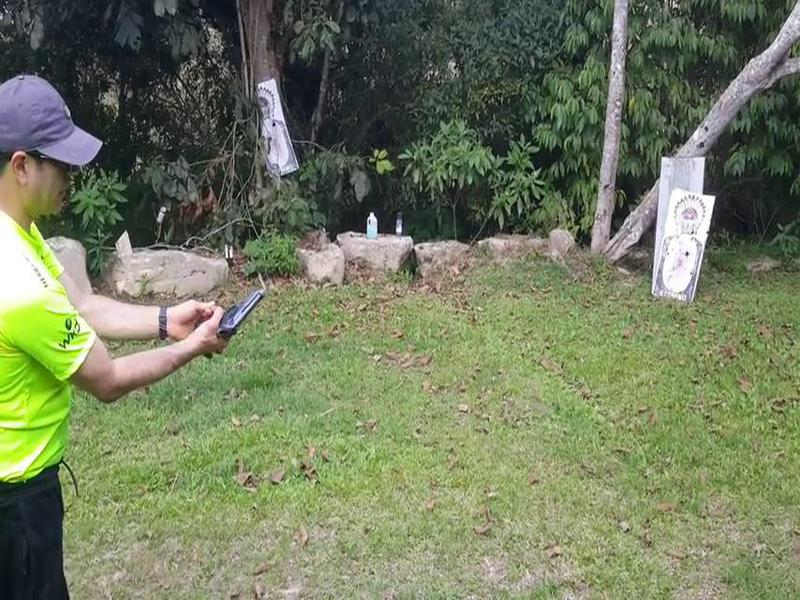Pistola: (199, 280, 272, 341)
